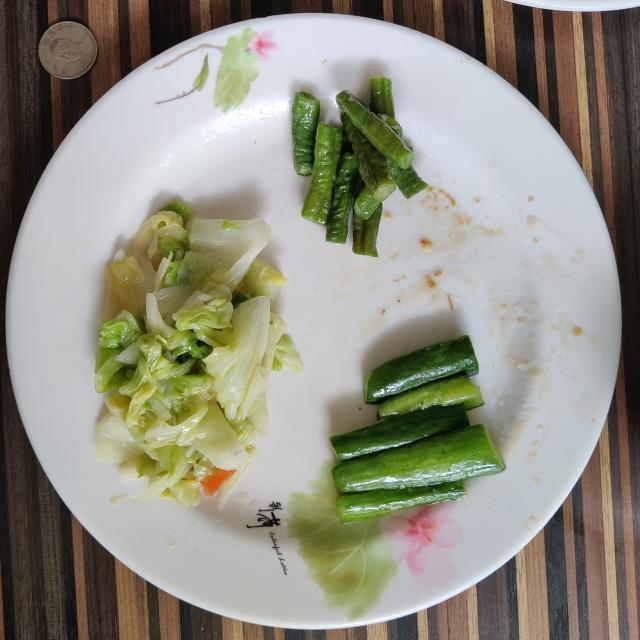cabbage: (95, 200, 302, 508)
coin: (39, 21, 98, 80)
cucumber: (330, 335, 505, 524)
